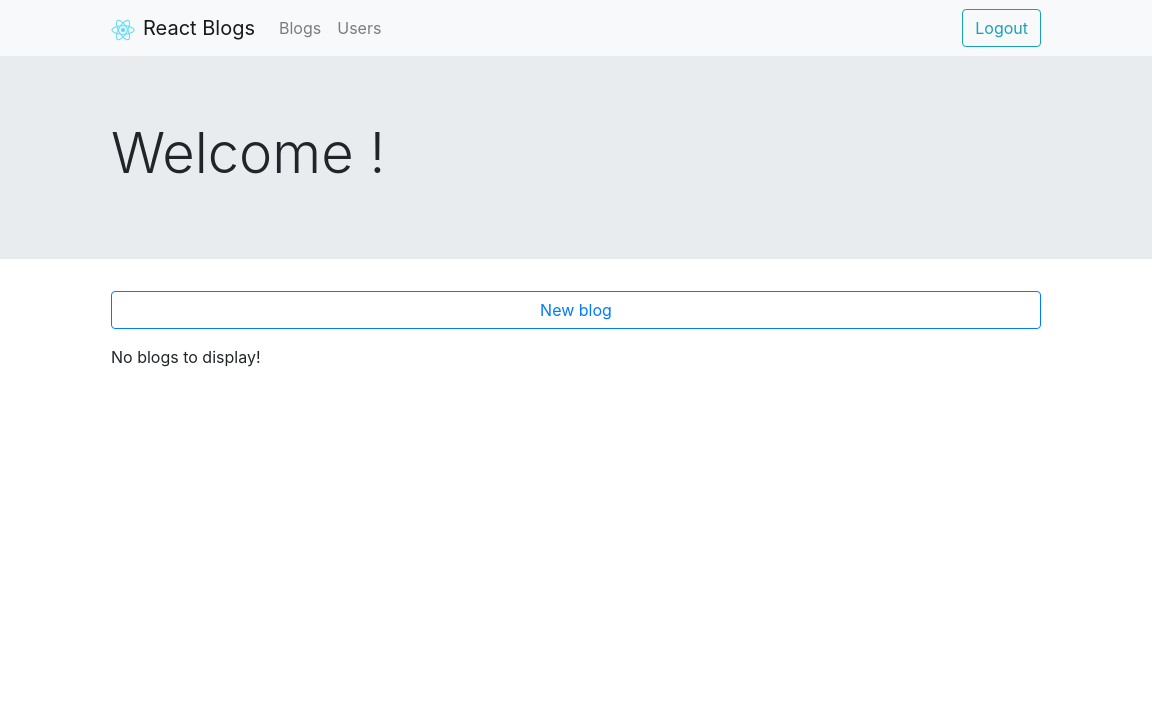
Test: Blogs app › Blogs › A blog can be created
Click the button with id "new-blog-button" at (576, 310), box x1=111 y1=291 x2=1041 y2=329
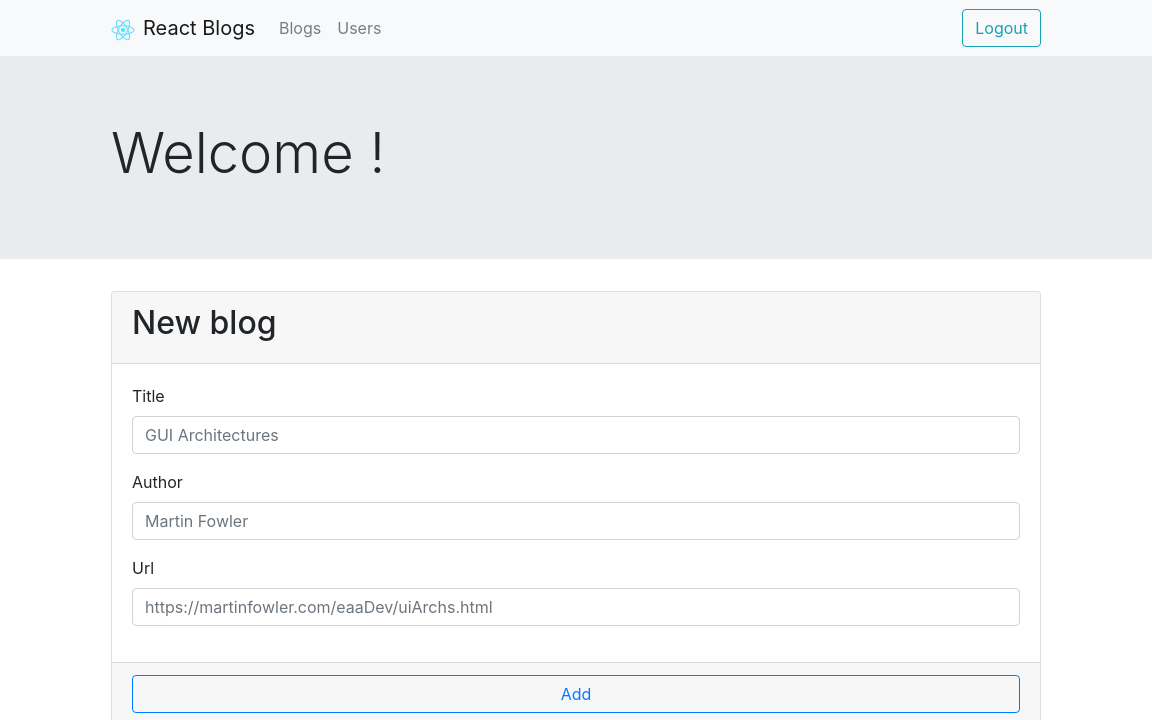
Type "React patterns" into the field with id "title-input" at (576, 435), box x1=132 y1=416 x2=1020 y2=454
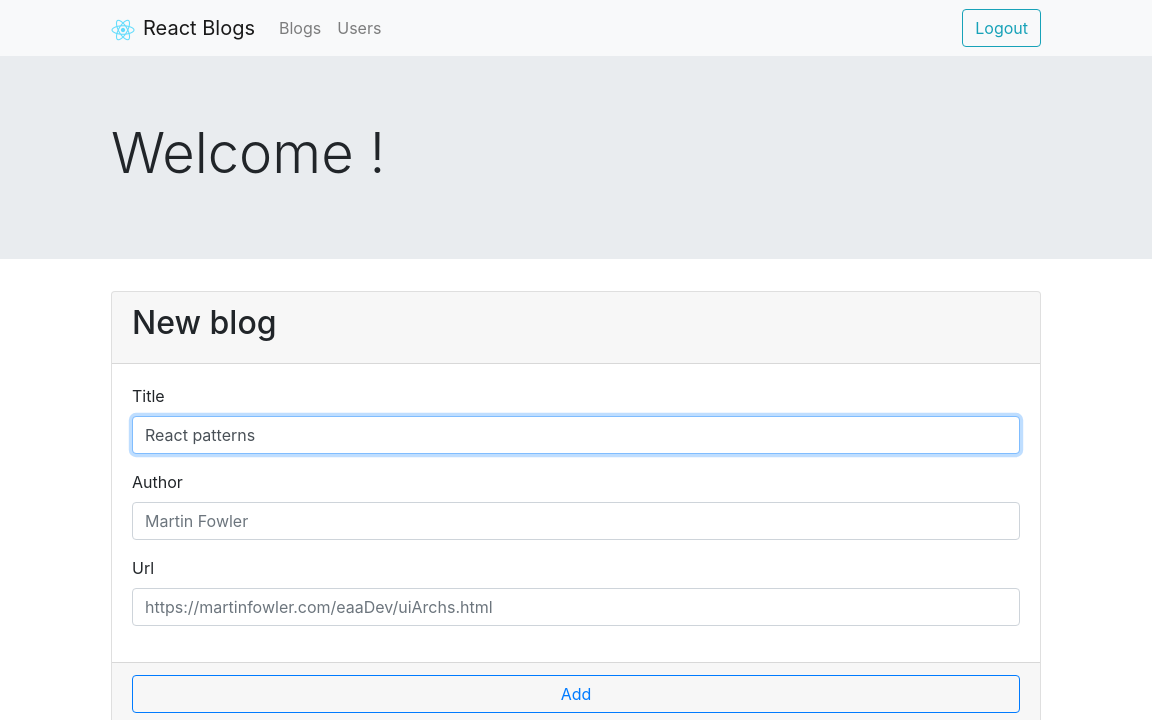
Type "Michael Chan" into the field with id "author-input" at (576, 521), box x1=132 y1=502 x2=1020 y2=540
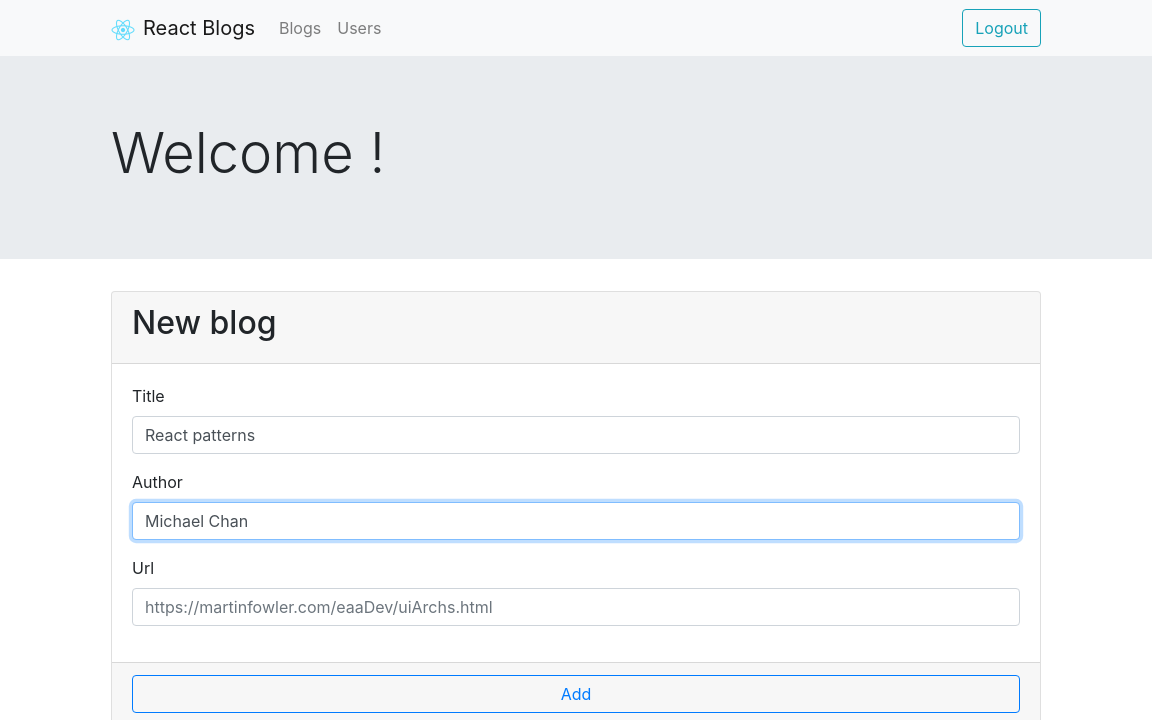
Type "https://reactpatterns.com/" into the field with id "url-input" at (576, 607), box x1=132 y1=588 x2=1020 y2=626
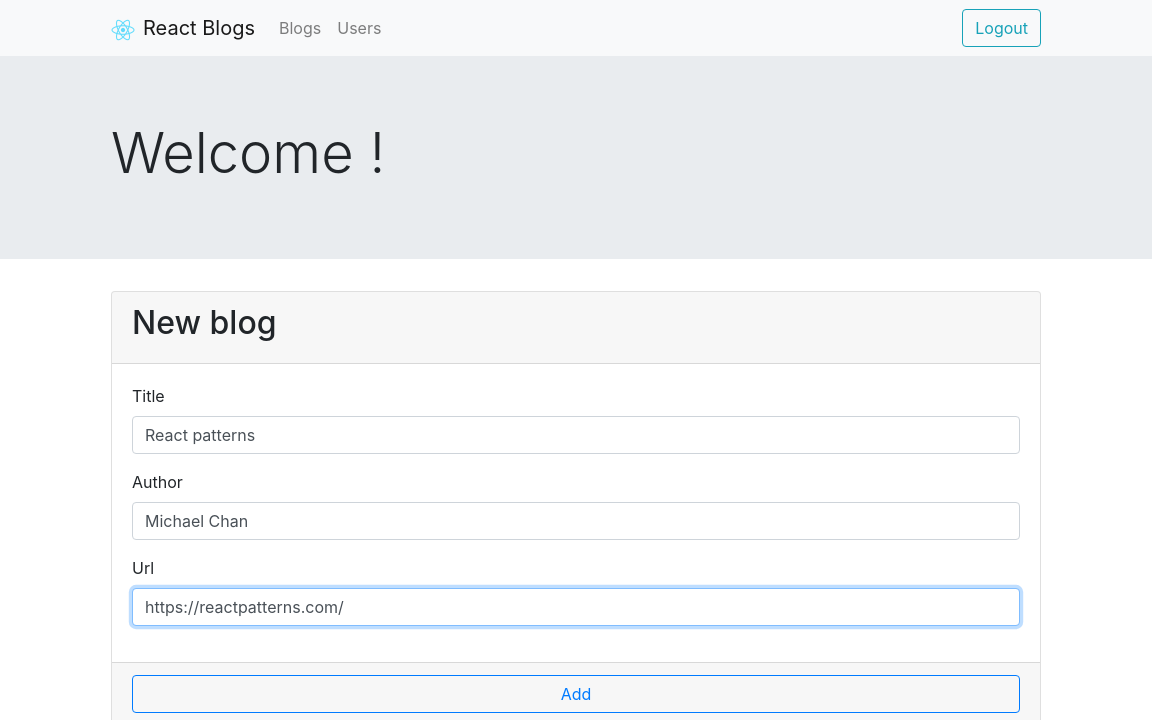
Click the button with id "add-blog-button" at (576, 694), box x1=132 y1=675 x2=1020 y2=713
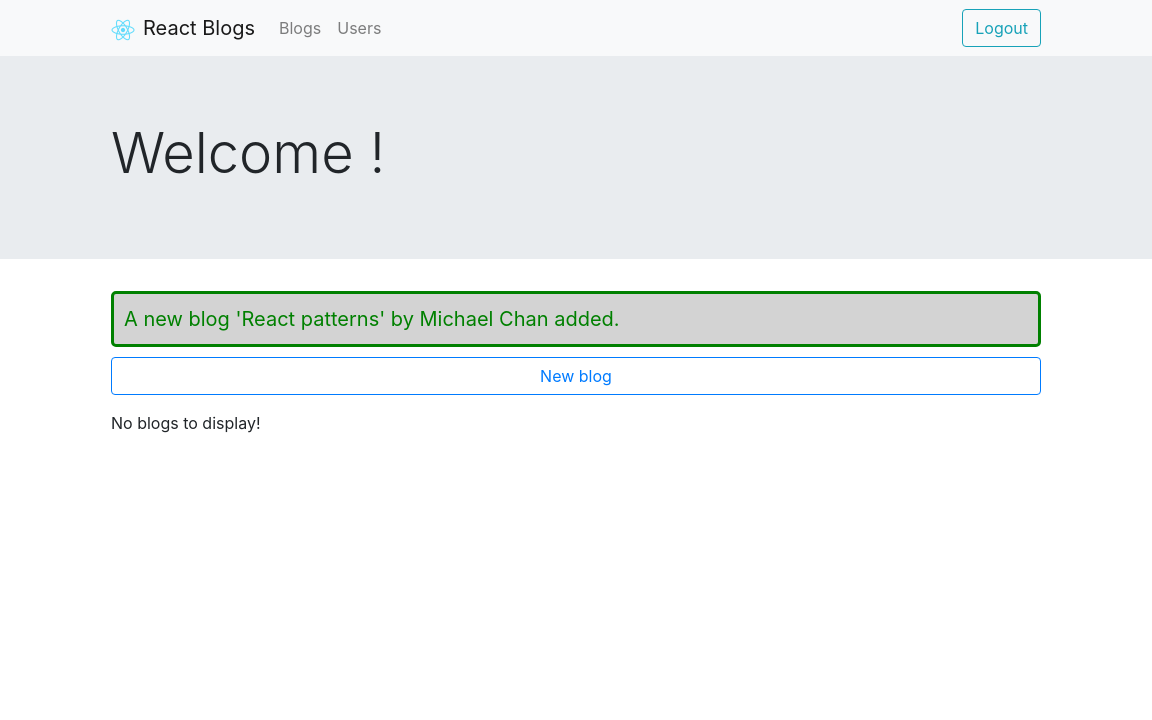
Now the text "Michael Chan" is shown, box x1=124 y1=307 x2=620 y2=331
